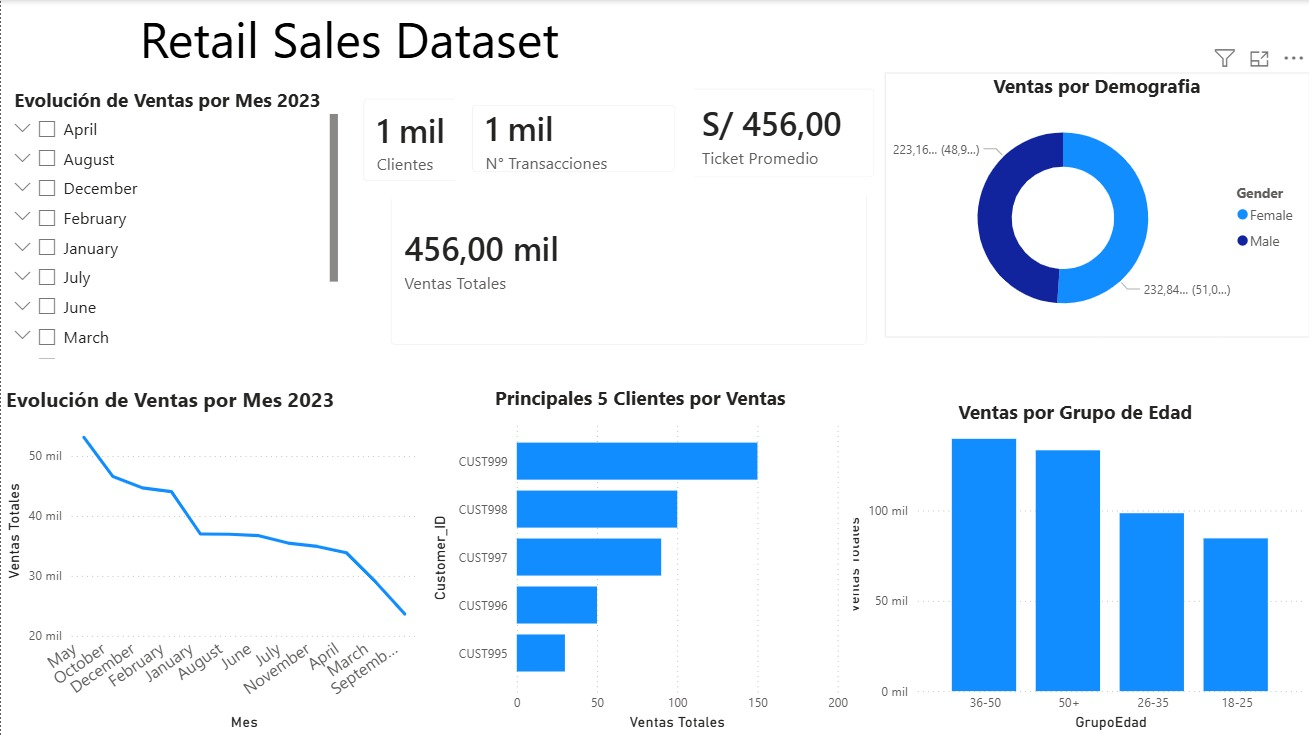

What the dashboard file says about the page in this screenshot:
{"tool":"powerbi","page":{"name":"Página 1","canvas":[1280,720],"ordinal":0},"visuals":[{"type":"cardVisual","fields":{"Data":["RetailSales_Final.Ventas Totales"]},"box":[365,151.7,500,203.3],"z":0},{"type":"cardVisual","fields":{"Data":["RetailSales_Final.Clientes"]},"box":[337.3,79.3,131.7,115],"z":1000},{"type":"cardVisual","fields":{"Data":["RetailSales_Final.Ticket Promedio"]},"box":[655.7,69.7,216.7,121.7],"z":2000},{"type":"cardVisual","fields":{"Data":["RetailSales_Final.N° Transacciones"]},"box":[444,85,233.3,100],"z":3000},{"type":"lineChart","title":"Evolución de Ventas por Mes 2023","fields":{"Category":["RetailSales_Final.NombreMes"],"Y":["RetailSales_Final.Ventas Totales"]},"box":[4.9,376.6,412.1,343.6],"z":4000},{"type":"donutChart","title":"Ventas por Demografia","fields":{"Category":["RetailSales_Final.Gender"],"Y":["RetailSales_Final.Ventas Totales"]},"box":[865,70.7,415,260],"z":6000},{"type":"columnChart","title":"Ventas por Grupo de Edad ","fields":{"Category":["RetailSales_Final.GrupoEdad"],"Y":["RetailSales_Final.Ventas Totales"]},"box":[821.7,390,458.3,330],"z":7000},{"type":"barChart","title":"Principales 5 Clientes por Ventas","fields":{"Category":["RetailSales_Final.Customer_ID"],"Y":["RetailSales_Final.Ventas Totales"]},"box":[416.7,376.7,416.7,343.3],"z":8000},{"type":"slicer","fields":{"Values":["RetailSales_Final.NombreMes","RetailSales_Final.Gender","RetailSales_Final.GrupoEdad","RetailSales_Final.Product_Category"]},"box":[0,79.6,334.8,275.8],"z":9000},{"type":"textbox","box":[0,0,695,85],"z":10000}]}

Visuals, with their boxes in screenshot pixels (x1, y1, x2, y2), scaled from the page's 1280x720 canvas onto the 1309x736 screenshot:
cardVisual - RetailSales_Final.Ventas Totales: (373, 155, 885, 363)
cardVisual - RetailSales_Final.Clientes: (345, 81, 480, 199)
cardVisual - RetailSales_Final.Ticket Promedio: (671, 71, 892, 196)
cardVisual - RetailSales_Final.N° Transacciones: (454, 87, 693, 189)
"Evolución de Ventas por Mes 2023" lineChart: (5, 385, 426, 735)
"Ventas por Demografia" donutChart: (885, 72, 1308, 338)
"Ventas por Grupo de Edad " columnChart: (840, 399, 1308, 735)
"Principales 5 Clientes por Ventas" barChart: (426, 385, 852, 735)
slicer - RetailSales_Final.NombreMes x RetailSales_Final.Gender: (0, 81, 342, 363)
textbox: (0, 0, 711, 87)
